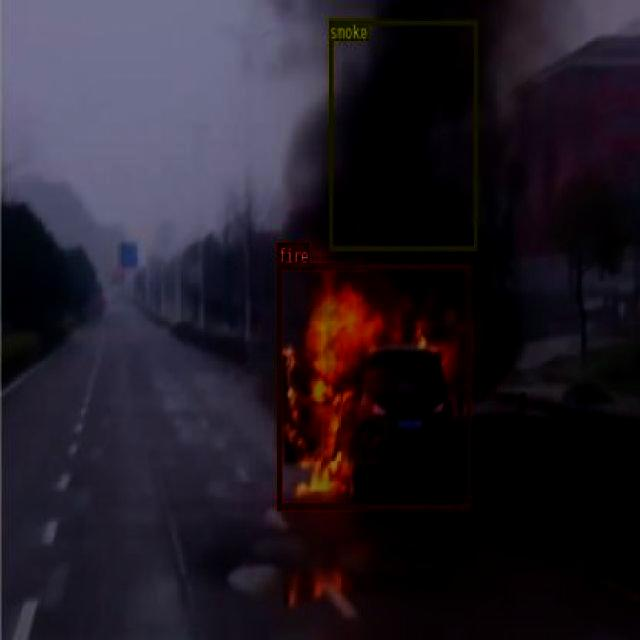fire: (278, 262, 470, 508)
smoke: (328, 18, 477, 250)
